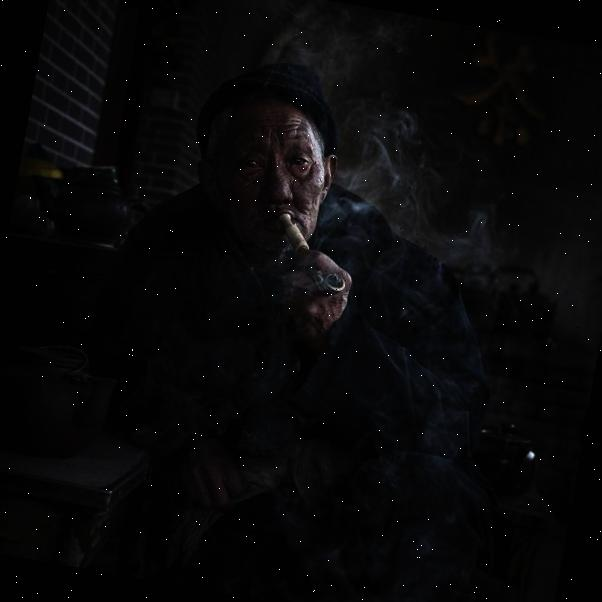smoke: (325, 108, 497, 272), (286, 0, 410, 91)
